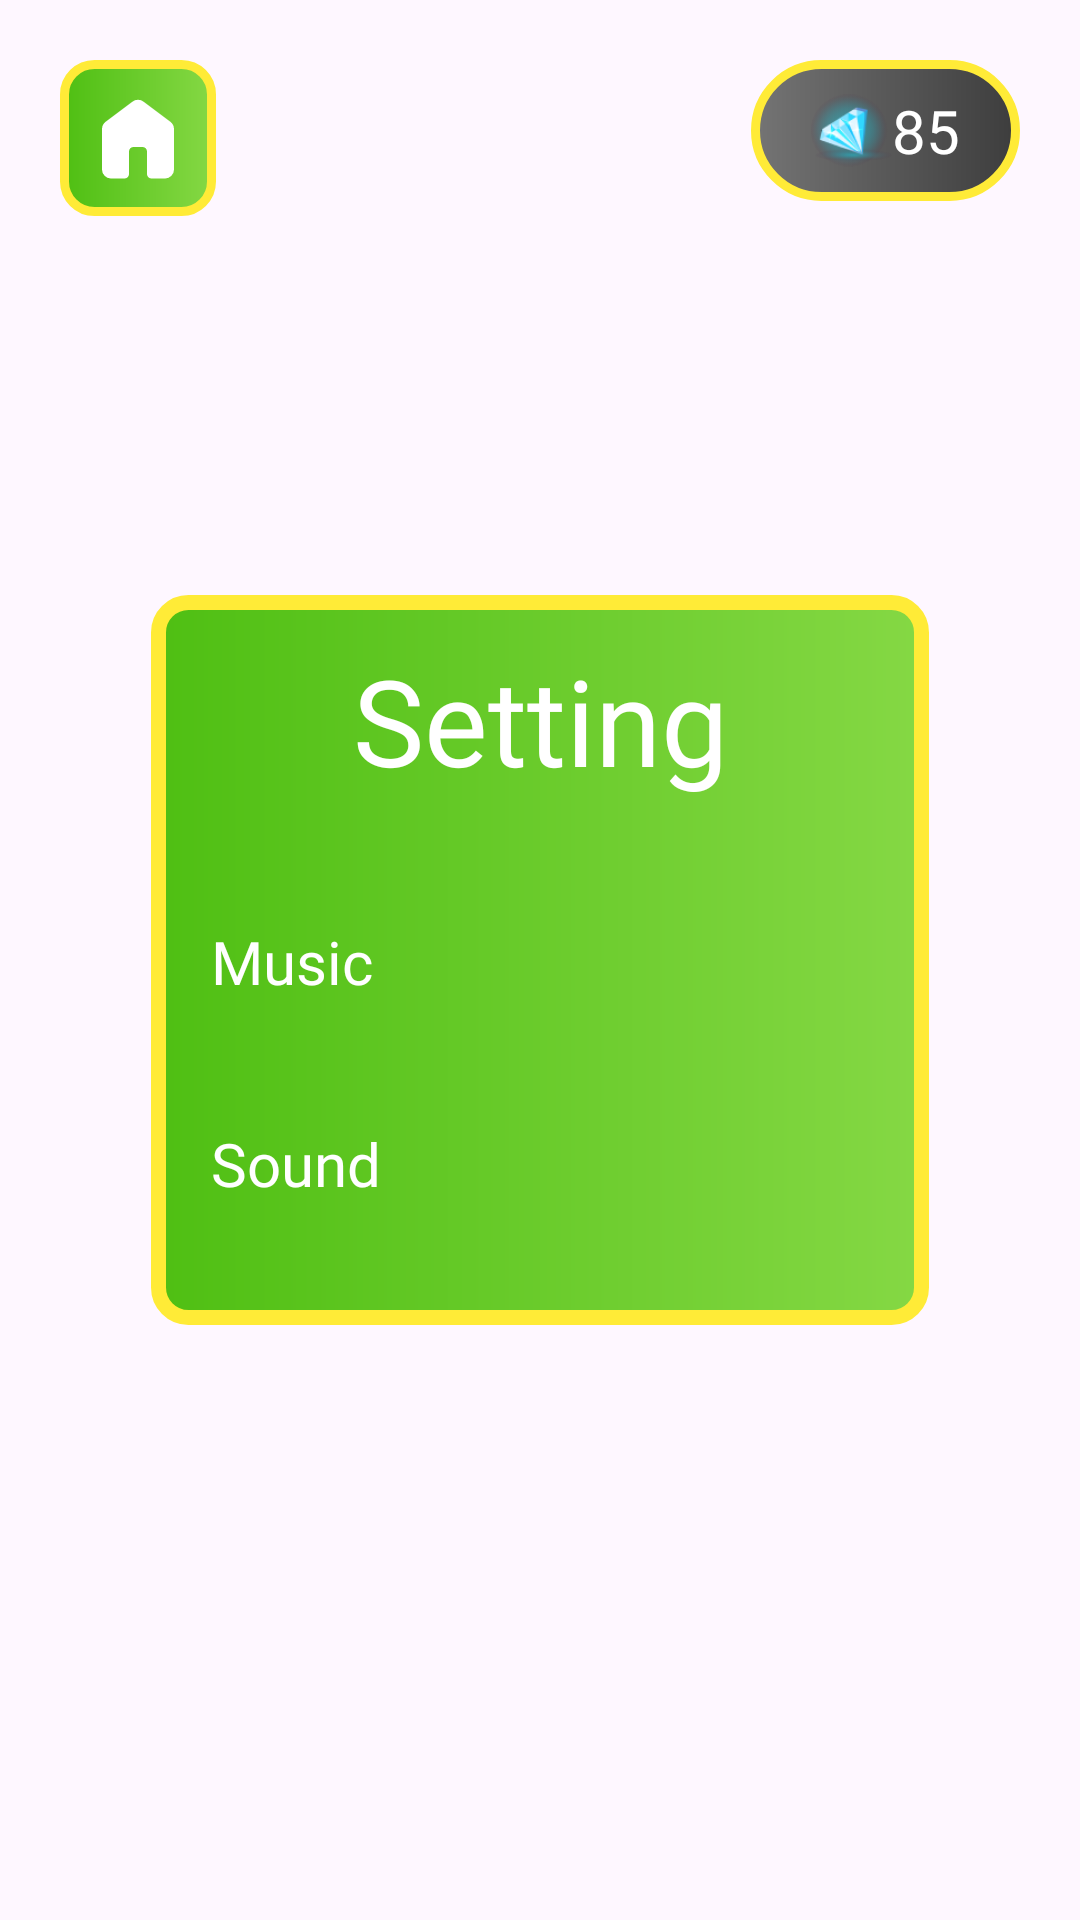

Point at icon controls on the screen. Image size 1080×1920, points as (x=x, y=y).
home without: (x=138, y=138)
